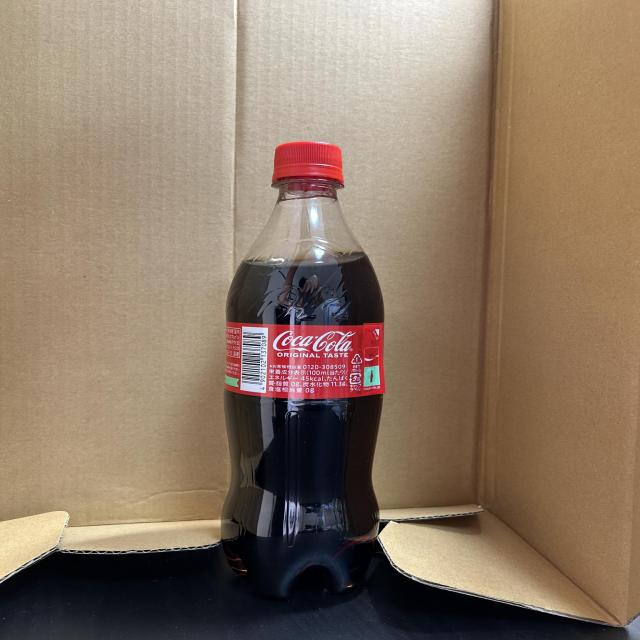high: (221, 142, 385, 597)
